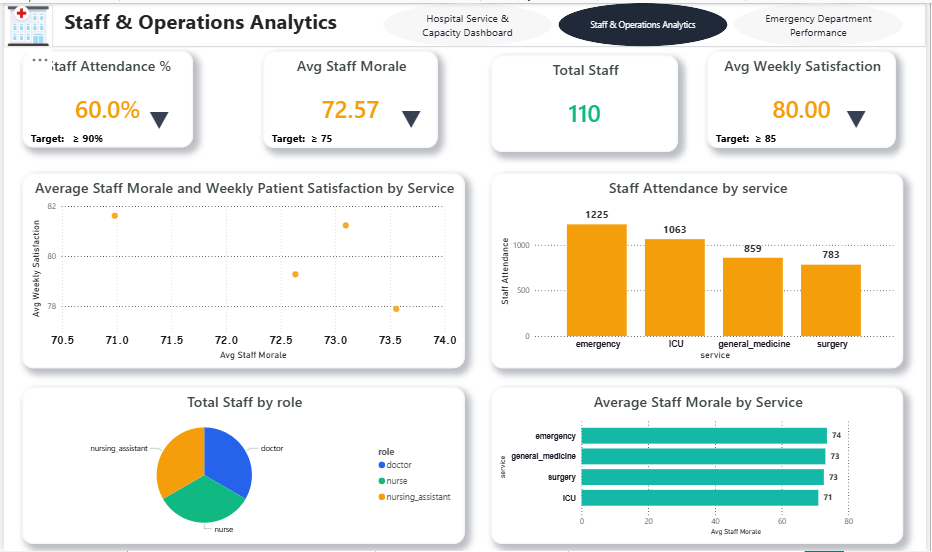

What the dashboard file says about the page in this screenshot:
{"tool":"powerbi","page":{"name":"Staff & Operations Analytics","canvas":[1445,859],"ordinal":1},"visuals":[{"type":"card","title":"Staff Attendance %","fields":{"Values":["measuretable.Staff Attendance %"]},"box":[27.5,75.7,268.4,151.4],"z":0},{"type":"shape","box":[0,0,1445.2,68.8],"z":1000},{"type":"textbox","box":[89.5,0,633.1,81.2],"z":2000},{"type":"card","title":"Avg Staff Morale","fields":{"Values":["measuretable.Avg Staff Morale"]},"box":[406,75.2,274.3,152],"z":3000},{"type":"card","fields":{"Values":["measuretable.Staff Attendance Arrow"]},"box":[162.4,151.4,159.7,61.9],"z":4000},{"type":"textbox","box":[27.5,195.4,134.9,31.7],"z":5000},{"type":"scatterChart","title":"Average Staff Morale and Weekly Patient Satisfaction by Service","fields":{"X":["measuretable.Avg Staff Morale"],"Y":["measuretable.Avg Weekly Satisfaction"],"Category":["hospital staff_schedule.service"]},"box":[28.2,266.5,694.4,305.7],"z":6000},{"type":"card","title":"Total Staff","fields":{"Values":["measuretable.Total Staff"]},"box":[763.4,81.5,293.1,152],"z":7000},{"type":"card","fields":{"Values":["measuretable.Staff Morale Arrow"]},"box":[583.1,152,109.7,59.6],"z":8000},{"type":"textbox","box":[406,195.9,122.3,31.4],"z":9000},{"type":"columnChart","fields":{"Y":["measuretable.Staff Attendance"],"Category":["hospital staff_schedule.service"]},"box":[763.4,266.5,645.8,305.7],"z":10000},{"type":"card","title":"Avg Weekly Satisfaction","fields":{"Values":["measuretable.Avg Weekly Satisfaction"]},"box":[1102,75.2,296.3,152],"z":11000},{"type":"card","fields":{"Values":["measuretable.Satisfaction Arrow"]},"box":[1261.9,144.2,147.3,75.2],"z":12000},{"type":"textbox","box":[1102,195.9,131.7,43.9],"z":13000},{"type":"barChart","title":"Average Staff Morale by Service","fields":{"Category":["hospital staff_schedule.service"],"Y":["measuretable.Avg Staff Morale"]},"box":[763.4,601.9,645.8,246.1],"z":14000},{"type":"pieChart","fields":{"Category":["hospital staff_schedule.role"],"Y":["measuretable.Total Staff"]},"box":[28.2,601.9,694.4,246.1],"z":15000},{"type":"pageNavigator","box":[594.1,0,815.1,69],"z":16000},{"type":"image","box":[0,3.1,76.8,65.8],"z":17000}]}

Visuals, with their boxes in screenshot pixels (x1, y1, x2, y2), scaled from the page's 1445x859 canvas onto the 932x552 screenshot:
"Staff Attendance %" card: box(18, 49, 191, 146)
shape: box(0, 0, 931, 44)
textbox: box(58, 0, 466, 52)
"Avg Staff Morale" card: box(262, 48, 439, 146)
card - measuretable.Staff Attendance Arrow: box(105, 97, 208, 137)
textbox: box(18, 126, 105, 146)
"Average Staff Morale and Weekly Patient Satisfaction by Service" scatterChart: box(18, 171, 466, 368)
"Total Staff" card: box(492, 52, 681, 150)
card - measuretable.Staff Morale Arrow: box(376, 98, 447, 136)
textbox: box(262, 126, 341, 146)
columnChart - measuretable.Staff Attendance x hospital staff_schedule.service: box(492, 171, 909, 368)
"Avg Weekly Satisfaction" card: box(711, 48, 902, 146)
card - measuretable.Satisfaction Arrow: box(814, 93, 909, 141)
textbox: box(711, 126, 796, 154)
"Average Staff Morale by Service" barChart: box(492, 387, 909, 545)
pieChart - hospital staff_schedule.role x measuretable.Total Staff: box(18, 387, 466, 545)
pageNavigator: box(383, 0, 909, 44)
image: box(0, 2, 50, 44)
